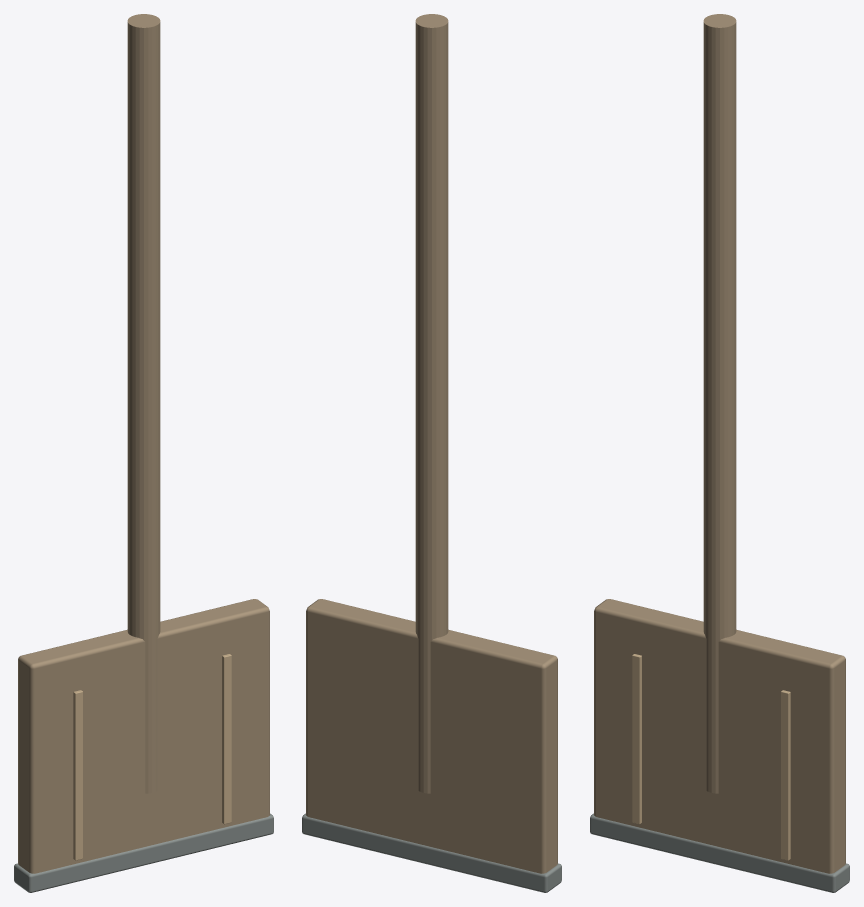
The model's file is coastal-saltworks-and-trade-port-coastal-saltworks-and-1202e6e3__31381.glb.
3 renders of one model, left to right at view 1: azimuth 30°, elevation 25°; view 2: azimuth 150°, elevation 25°; view 3: azimuth 330°, elevation 25°, orthographic.
Visible parts, largest first — view 1: coastal-saltworks-and-trade-port-salt-gathering-paddle; view 2: coastal-saltworks-and-trade-port-salt-gathering-paddle; view 3: coastal-saltworks-and-trade-port-salt-gathering-paddle.
Boxes of the visible parts, x1,y1,x2,y2 form: coastal-saltworks-and-trade-port-salt-gathering-paddle: [14, 14, 273, 892]; coastal-saltworks-and-trade-port-salt-gathering-paddle: [302, 14, 561, 892]; coastal-saltworks-and-trade-port-salt-gathering-paddle: [590, 14, 849, 892].
Bounding box in the file's own units: 0.43 × 1.4 × 0.0545.
